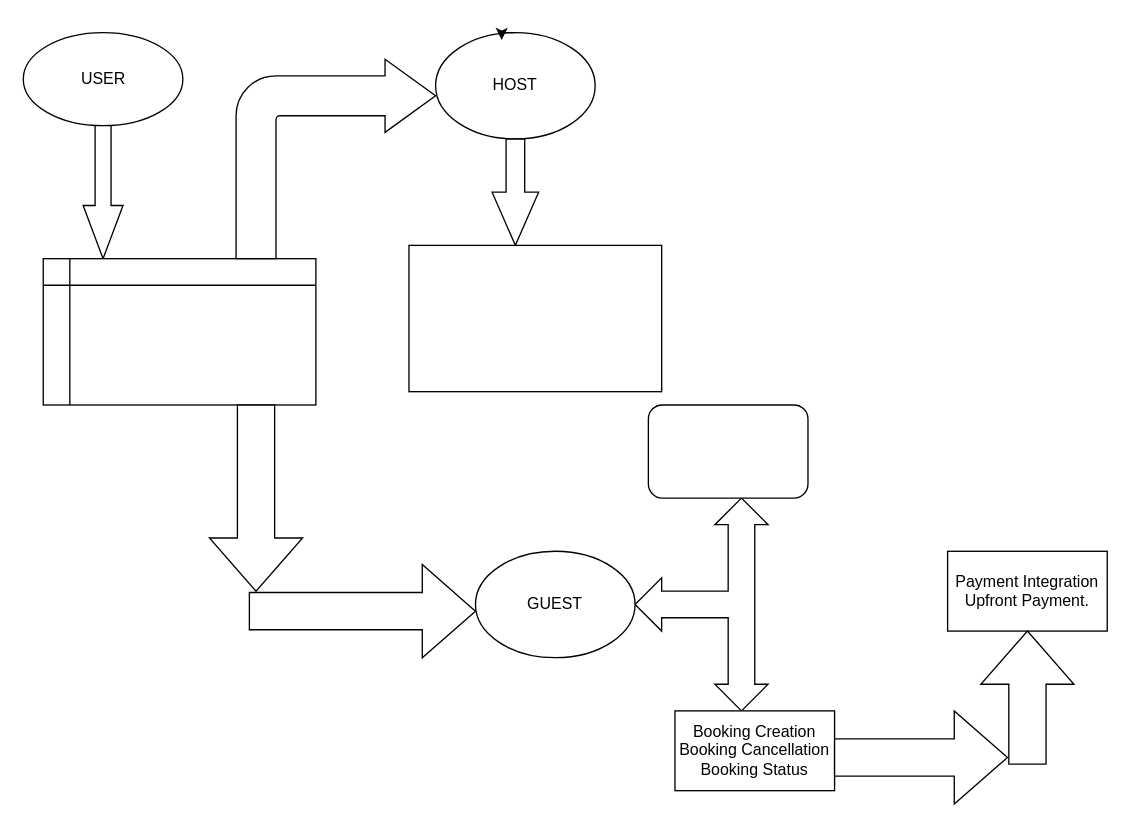
The diagram is 1131 pixels wide and 827 high, and some of its shapes have lost their labels. The centre of each missing label's shape, as x and y in pixels:
"Properties Available" goes at point (727, 451).
"Property Listing management Add Listings Edit/Delete Listings" goes at point (535, 318).
"User Registration User Login and Authentication Profile Management" goes at point (179, 331).
